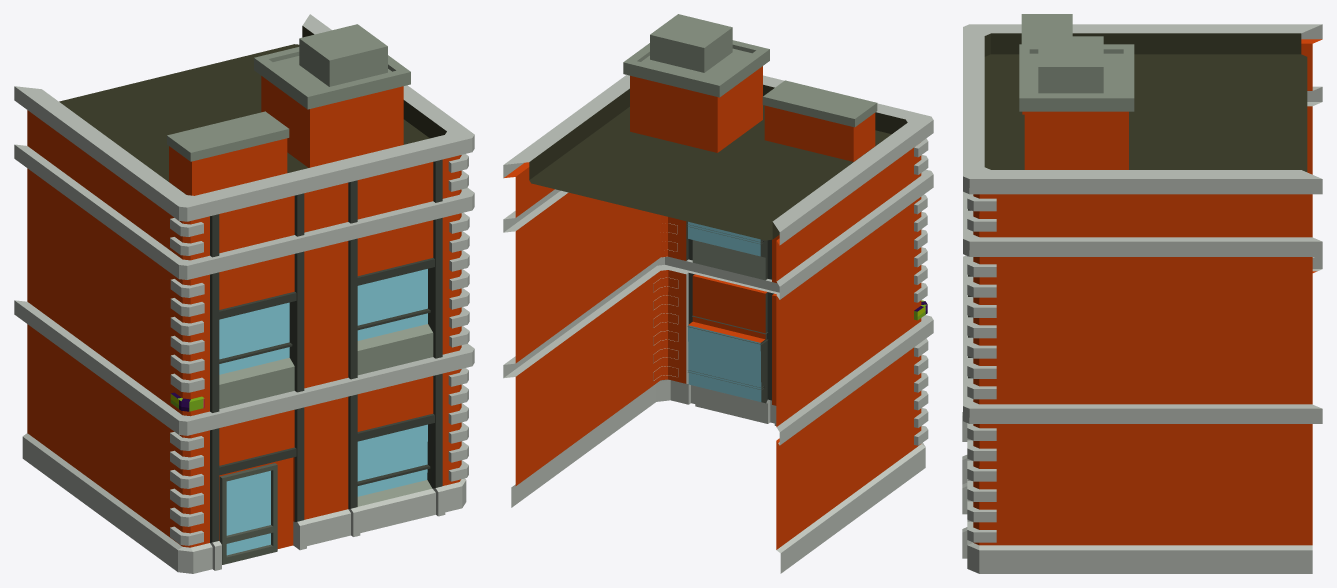
Rendered from House3.fbx.
3 views of the same model, side by side, from view 1: azimuth 30°, elevation 25°; view 2: azimuth 150°, elevation 25°; view 3: azimuth 270°, elevation 25° (orthographic). The views are drawn at different scales.
Parts seen in each view (by area): view 1: House1.001; view 2: House1.001; view 3: House1.001.
Part boxes in pixels (<box>): House1.001: <box>14,14,474,573</box>; House1.001: <box>503,14,933,573</box>; House1.001: <box>962,14,1322,573</box>.
Size of the model in its own units: 795 by 1150 by 782.
Materials: 1 (1 with a texture image).
